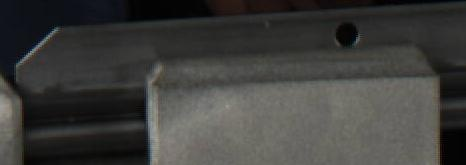cut: (13, 21, 139, 157)
holes: (333, 20, 360, 48)
